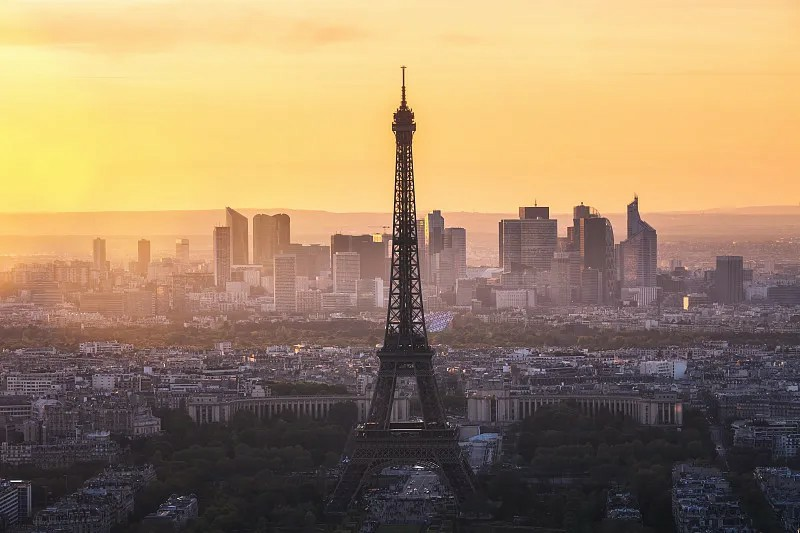Eiffel: (323, 66, 491, 522)
